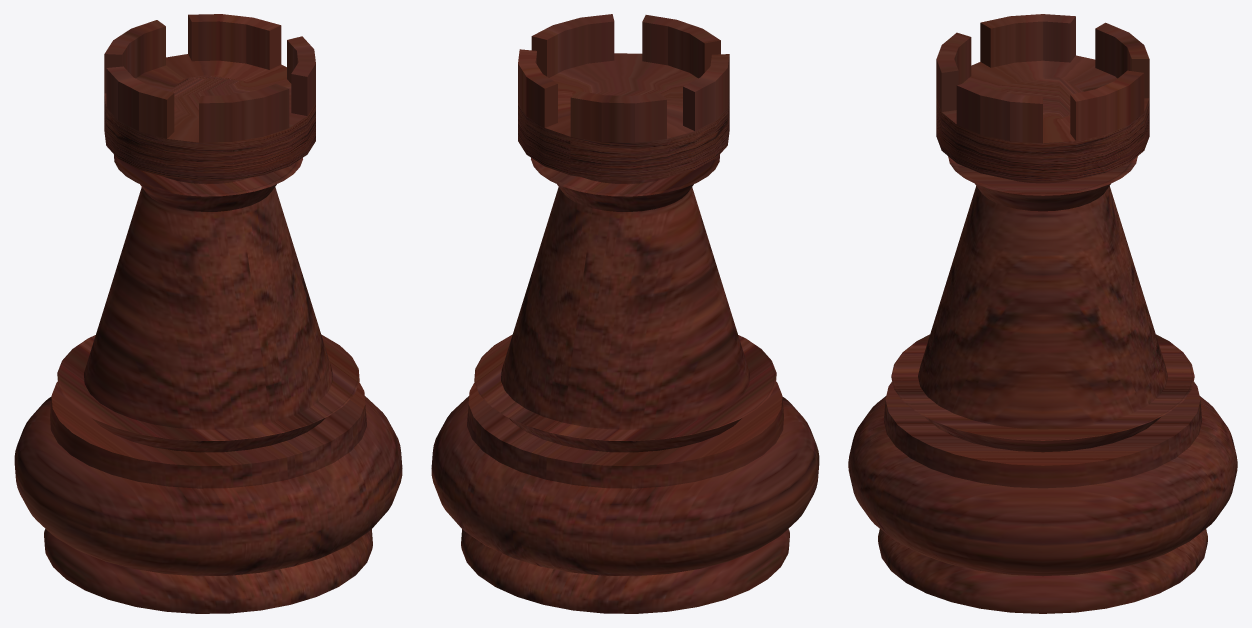
Rendered from BlackRook.FBX.
3 renders of one model, left to right at view 1: azimuth 30°, elevation 25°; view 2: azimuth 150°, elevation 25°; view 3: azimuth 270°, elevation 25°, orthographic.
Parts seen in each view (by area): view 1: RookB1; view 2: RookB1; view 3: RookB1.
Part boxes in pixels (left/top/right/bottom): RookB1: left=14, top=14, right=402, bottom=613; RookB1: left=431, top=14, right=819, bottom=613; RookB1: left=848, top=14, right=1237, bottom=613.
Size of the model in its own units: 0.1837 by 0.1837 by 0.2531.
1 material, 1 textured.
